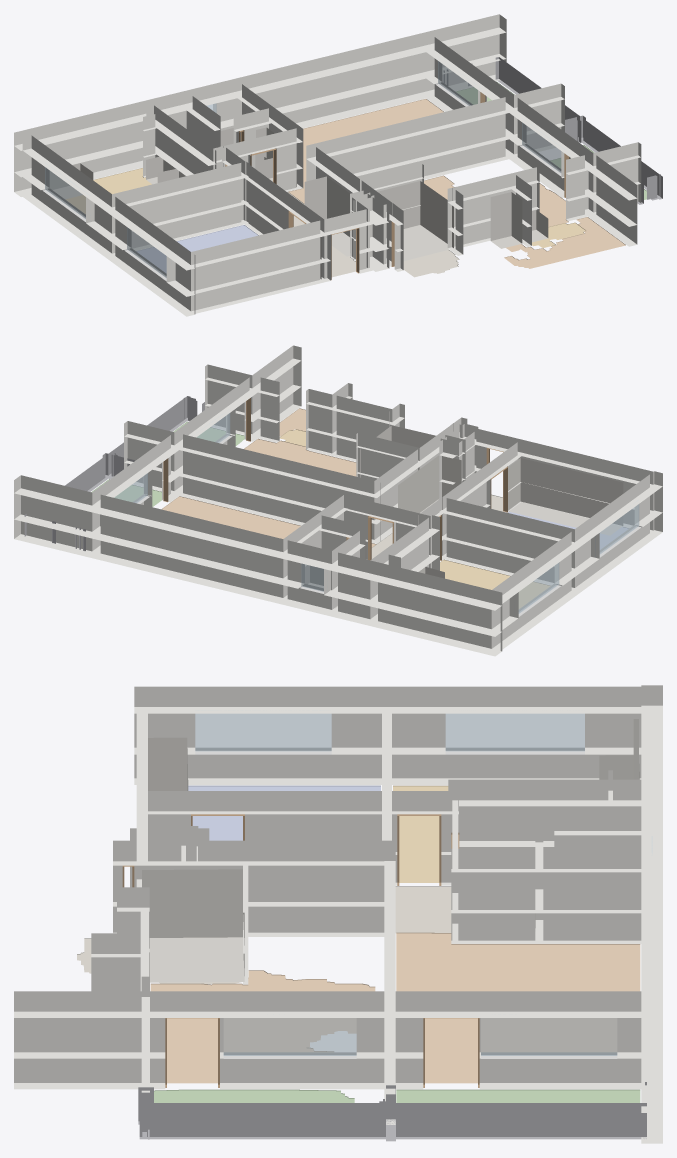
3 views of the same model, one above another, from view 1: azimuth 30°, elevation 25°; view 2: azimuth 150°, elevation 25°; view 3: azimuth 270°, elevation 25° (orthographic). The views are drawn at different scales.
Visible parts, largest first — view 1: walls, furniture_3_closet, railings, floor_3_Living_Room, floor_10_Living_Room, furniture_2_closet, furniture_5_closet, floor_6_Bed_Room, floor_9_Living_Room, floor_0_Kitchen, floor_11_Entry, window_5 (+8 smaller); view 2: walls, furniture_4_closet, railings, furniture_2_closet, floor_3_Living_Room, floor_9_Living_Room, floor_0_Kitchen, window_4, window_5, furniture_3_closet, window_8, window_2 (+3 smaller); view 3: walls, floor_3_Living_Room, railings, furniture_3_closet, floor_9_Living_Room, window_5, window_4, window_0, window_8, floor_5_Outdoor, floor_0_Kitchen, floor_4_Entry (+8 smaller).
Part boxes in pixels (x1,y1,x2,y2): walls: (14,14,641,316); furniture_3_closet: (377,181,453,260); railings: (443,57,662,204); floor_3_Living_Room: (288,99,443,203); floor_10_Living_Room: (504,217,625,268); furniture_2_closet: (304,176,350,256); furniture_5_closet: (490,192,522,248); floor_6_Bed_Room: (136,225,258,272); floor_9_Living_Room: (424,175,568,226); floor_0_Kitchen: (66,168,151,213); floor_11_Entry: (403,250,459,277); window_5: (45,164,89,218); walls: (14,345,662,656); furniture_4_closet: (508,458,623,535); railings: (24,396,204,551); furniture_2_closet: (398,455,461,513); floor_3_Living_Room: (161,496,376,547); floor_9_Living_Room: (244,438,356,476); floor_0_Kitchen: (440,559,549,608); window_4: (595,500,639,557); window_5: (518,563,559,613); furniture_3_closet: (360,425,435,477); window_8: (197,413,230,442); window_2: (301,563,323,591); walls: (14,685,662,1143); floor_3_Living_Room: (396,932,640,1083); railings: (138,1082,646,1141); furniture_3_closet: (142,869,244,982); floor_9_Living_Room: (150,970,375,1083); window_5: (445,713,584,751); window_4: (195,710,331,751); window_0: (481,1018,617,1055); window_8: (223,1018,356,1055); floor_5_Outdoor: (396,1089,640,1102); floor_0_Kitchen: (393,785,448,882); floor_4_Entry: (395,886,451,932).
Size of the model in its own units: 23.09 by 2.72 by 17.28.
